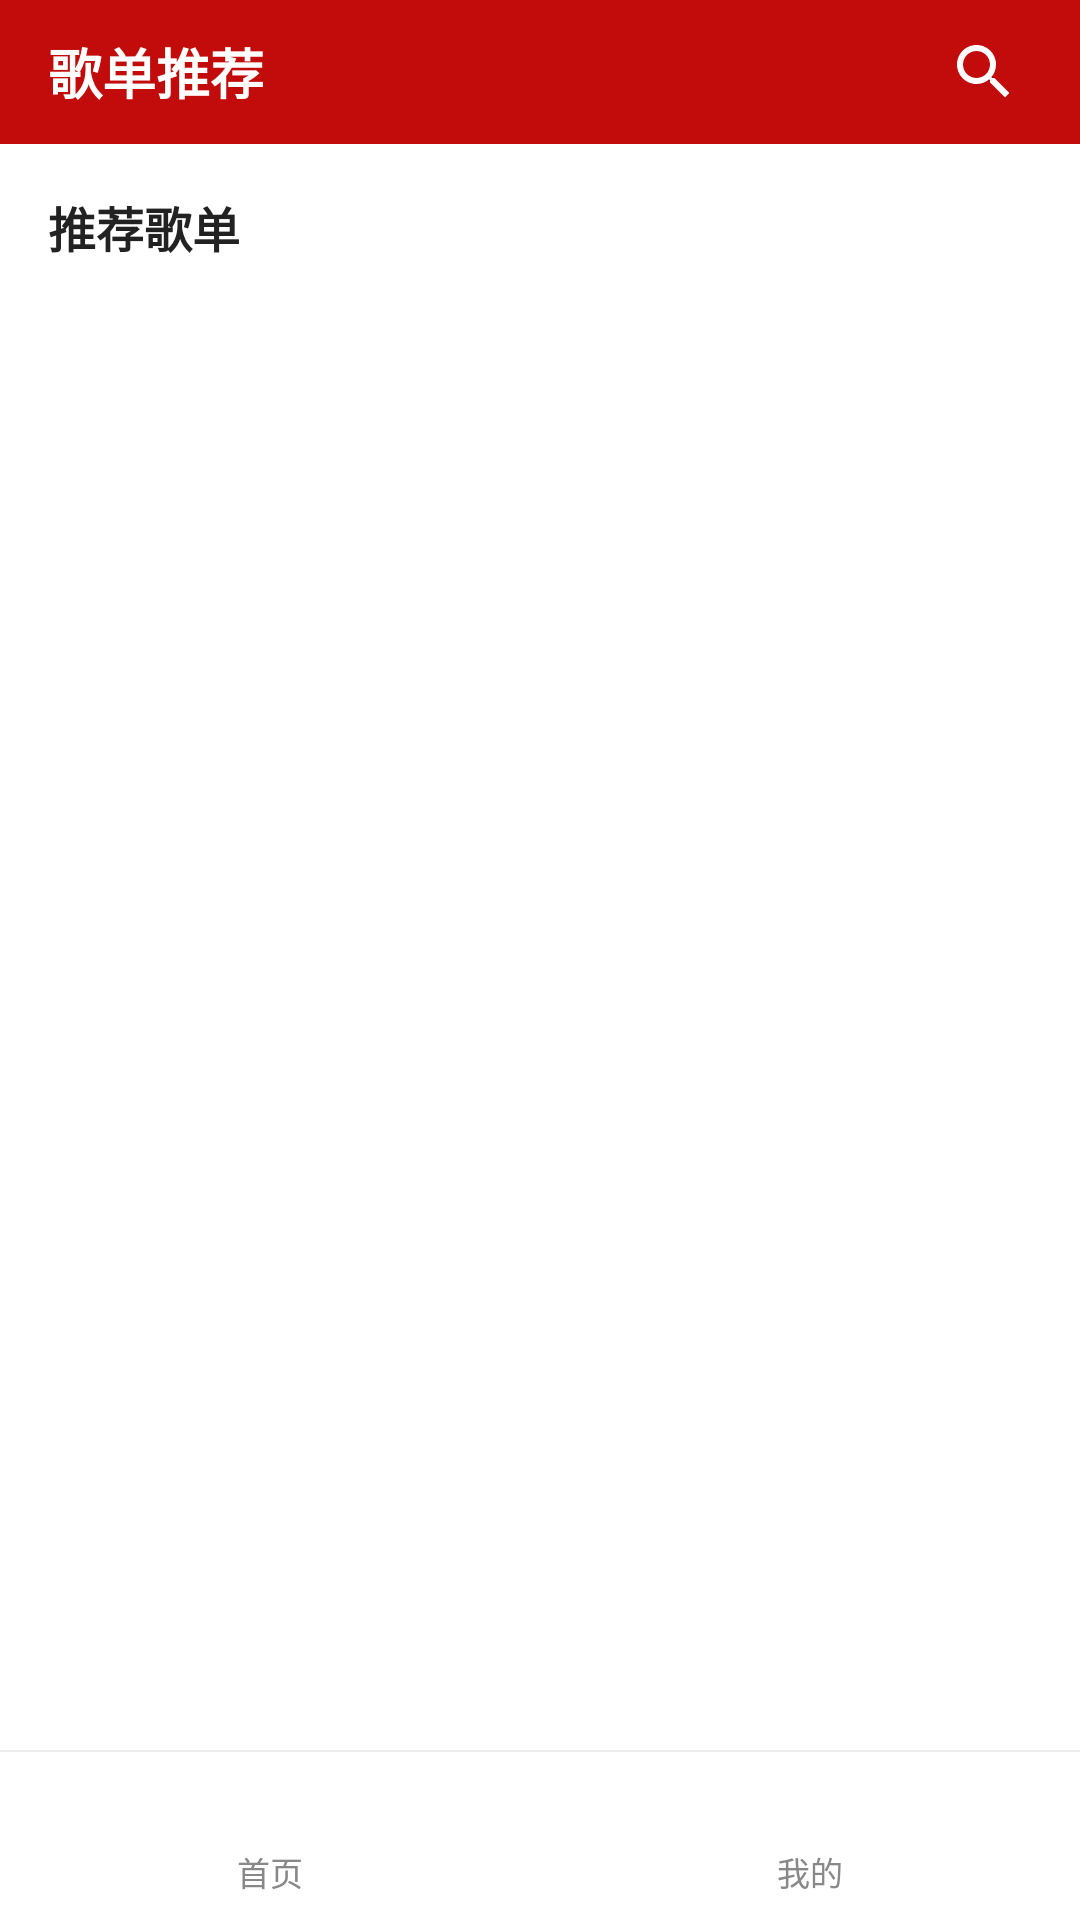

Named icons in this screenshot (1080w x 1920h) and their centers, (x,y):
搜索: (983,71)
